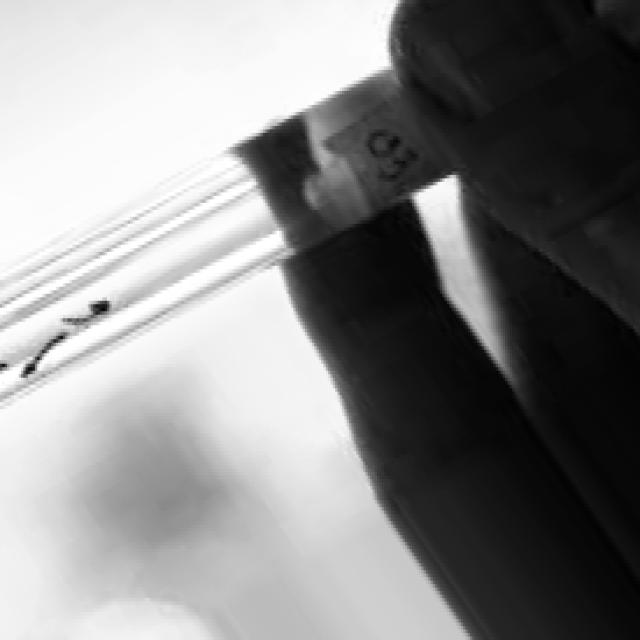larvas: (22, 331, 66, 375), (63, 300, 109, 324)
